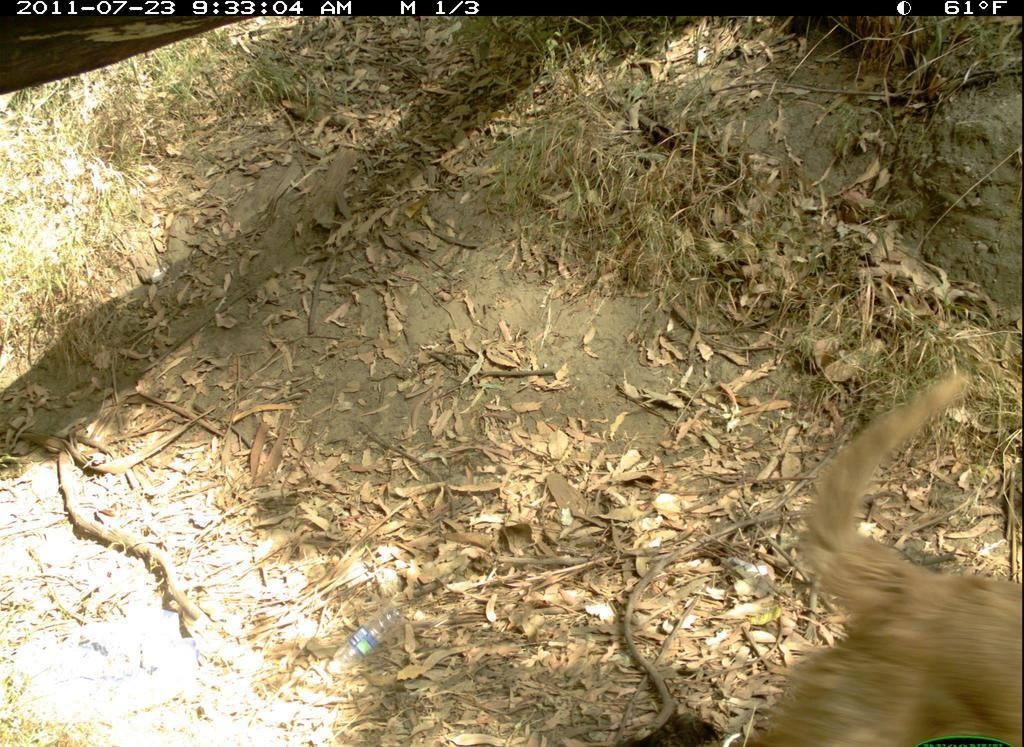dog: (724, 368, 1023, 747)
